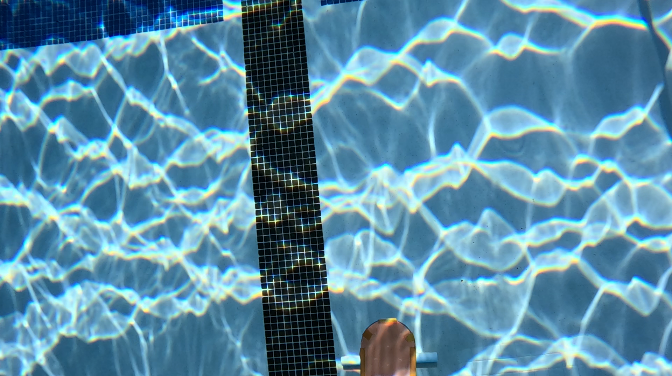pathmarker: (359, 318, 416, 375)
